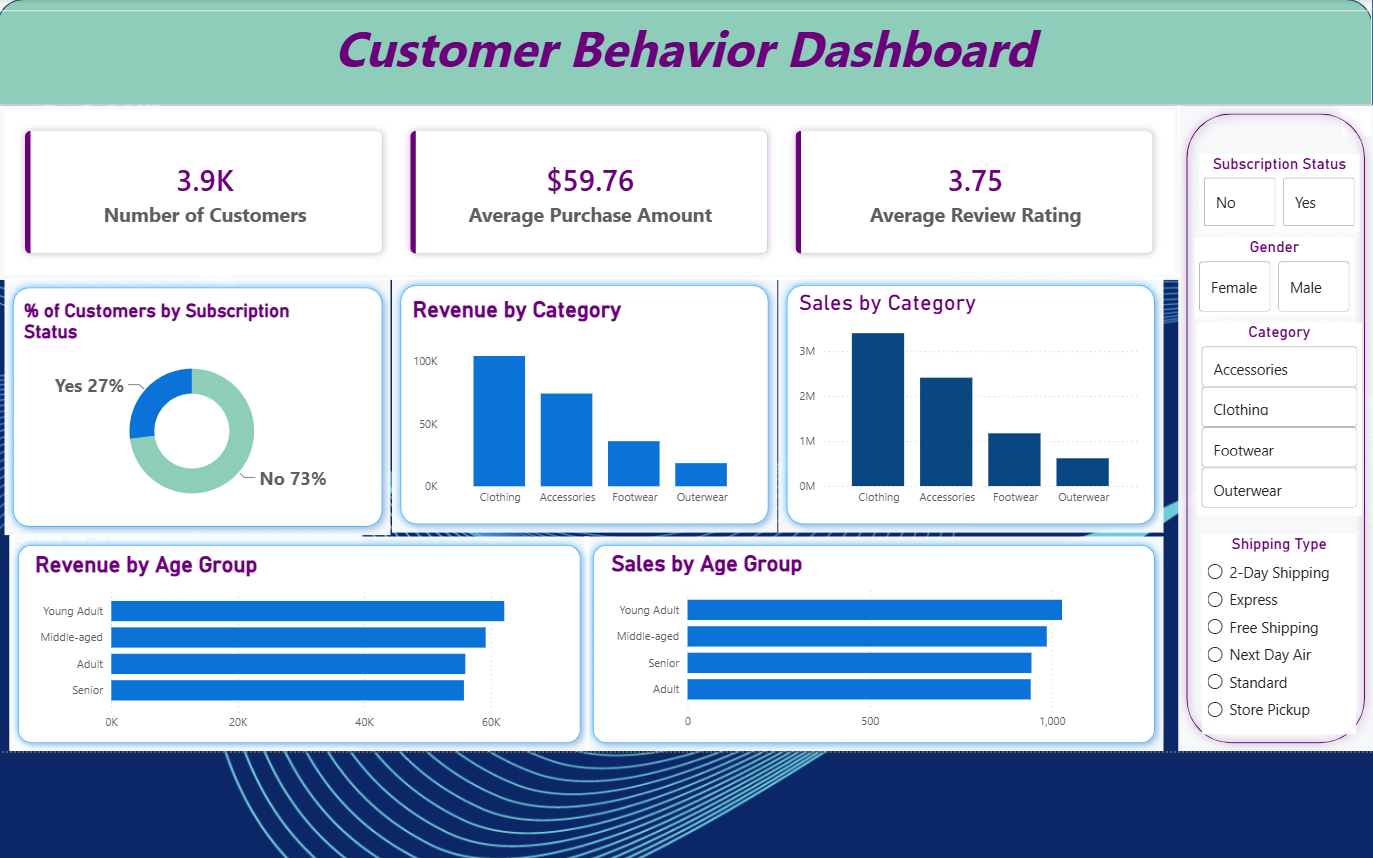

This screenshot's page, from the dashboard's own definition file:
{"tool":"powerbi","page":{"name":"Page 1","canvas":[1500,820],"ordinal":0},"visuals":[{"type":"cardVisual","fields":{"Data":["public customer.Number of Customers","public customer.Average Purchase Amount","public customer.Average Review Rating"]},"box":[2.7,115.8,1286.3,190.8],"z":0},{"type":"shape","box":[0,0,1499.4,115.3],"z":1000},{"type":"textbox","box":[0,12.4,1499.4,102.9],"z":2000},{"type":"shape","box":[13.6,585.9,631.7,234.2],"z":2500,"group":"g1"},{"type":"shape","box":[8.2,305.2,421.1,279.3],"z":3000},{"type":"donutChart","title":"% of Customers by Subscription Status","fields":{"Category":["public customer.subscription_status"],"Y":["CountNonNull(public customer.customer_id)"]},"box":[24.5,327,376.1,237.1],"z":4000},{"type":"shape","box":[851.7,302.5,419.7,279.3],"z":5000},{"type":"shape","box":[430.6,302.5,419.7,279.3],"z":6000},{"type":"clusteredColumnChart","title":"Revenue by Category","fields":{"Y":["Sum(public customer.purchase_amount)"],"Category":["public customer.category"]},"box":[448.3,324.3,384.3,237.1],"z":7000},{"type":"clusteredColumnChart","title":"Sales by Category","fields":{"Y":["CountNonNull(public customer.customer_id)"],"Category":["public customer.category"]},"box":[13.6,583.2,384.3,237.1],"z":8000},{"type":"shape","box":[1287.7,115.8,212.6,704.5],"z":9000},{"type":"advancedSlicerVisual","fields":{"Values":["public customer.subscription_status"]},"box":[1310.9,169,174.4,84.5],"z":10000},{"type":"advancedSlicerVisual","fields":{"Values":["public customer.gender"]},"box":[1305.4,260.3,174.4,85.8],"z":11000},{"type":"advancedSlicerVisual","fields":{"Values":["public customer.category"]},"box":[1308.3,353.3,180,210],"z":12000},{"type":"listSlicer","fields":{"Values":["public customer.shipping_type"]},"box":[1313.3,583.3,168.3,218.3],"z":13000},{"type":"shape","box":[640.4,585.9,630.9,234.4],"z":14000},{"type":"clusteredBarChart","title":"Sales by Age Group","fields":{"Y":["CountNonNull(public customer.customer_id)"],"Category":["public customer.age_group"]},"box":[665,600.9,584.6,204.4],"z":15000},{"type":"group","id":"g1","title":"Group 1","box":[13.6,585.9,632.3,234.4],"z":16000},{"type":"clusteredColumnChart","title":"Sales by Category","fields":{"Category":["public customer.category"],"Y":["Sum(public customer.customer_id)"]},"box":[870,316.2,380,245],"z":17000},{"type":"clusteredBarChart","title":"Revenue by Age Group","fields":{"Y":["Sum(public customer.purchase_amount)"],"Category":["public customer.age_group"]},"box":[36.7,601.9,585.6,204.1],"z":17500,"group":"g1"}]}

Visuals, with their boxes on the page's 1500x820 design canvas (x1, y1, x2, y2). These are canvas units, not pixel positions in the 1373x858 screenshot, which may show the page scaled, cropped or inside an application window:
cardVisual - public customer.Number of Customers x public customer.Average Purchase Amount: [left=3, top=116, right=1289, bottom=307]
shape: [left=0, top=0, right=1499, bottom=115]
textbox: [left=0, top=12, right=1499, bottom=115]
shape: [left=14, top=586, right=645, bottom=820]
shape: [left=8, top=305, right=429, bottom=584]
"% of Customers by Subscription Status" donutChart: [left=24, top=327, right=401, bottom=564]
shape: [left=852, top=302, right=1271, bottom=582]
shape: [left=431, top=302, right=850, bottom=582]
"Revenue by Category" clusteredColumnChart: [left=448, top=324, right=833, bottom=561]
"Sales by Category" clusteredColumnChart: [left=14, top=583, right=398, bottom=820]
shape: [left=1288, top=116, right=1500, bottom=820]
advancedSlicerVisual - public customer.subscription_status: [left=1311, top=169, right=1485, bottom=254]
advancedSlicerVisual - public customer.gender: [left=1305, top=260, right=1480, bottom=346]
advancedSlicerVisual - public customer.category: [left=1308, top=353, right=1488, bottom=563]
listSlicer - public customer.shipping_type: [left=1313, top=583, right=1482, bottom=802]
shape: [left=640, top=586, right=1271, bottom=820]
"Sales by Age Group" clusteredBarChart: [left=665, top=601, right=1250, bottom=805]
"Group 1" group: [left=14, top=586, right=646, bottom=820]
"Sales by Category" clusteredColumnChart: [left=870, top=316, right=1250, bottom=561]
"Revenue by Age Group" clusteredBarChart: [left=37, top=602, right=622, bottom=806]
